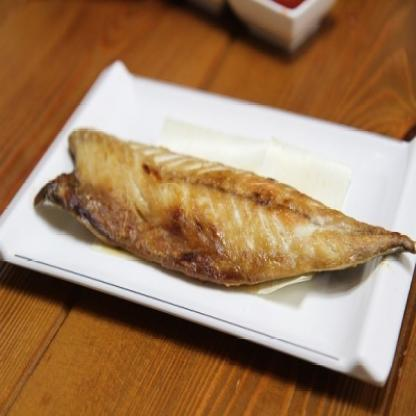Peixe: (24, 123, 416, 293)
